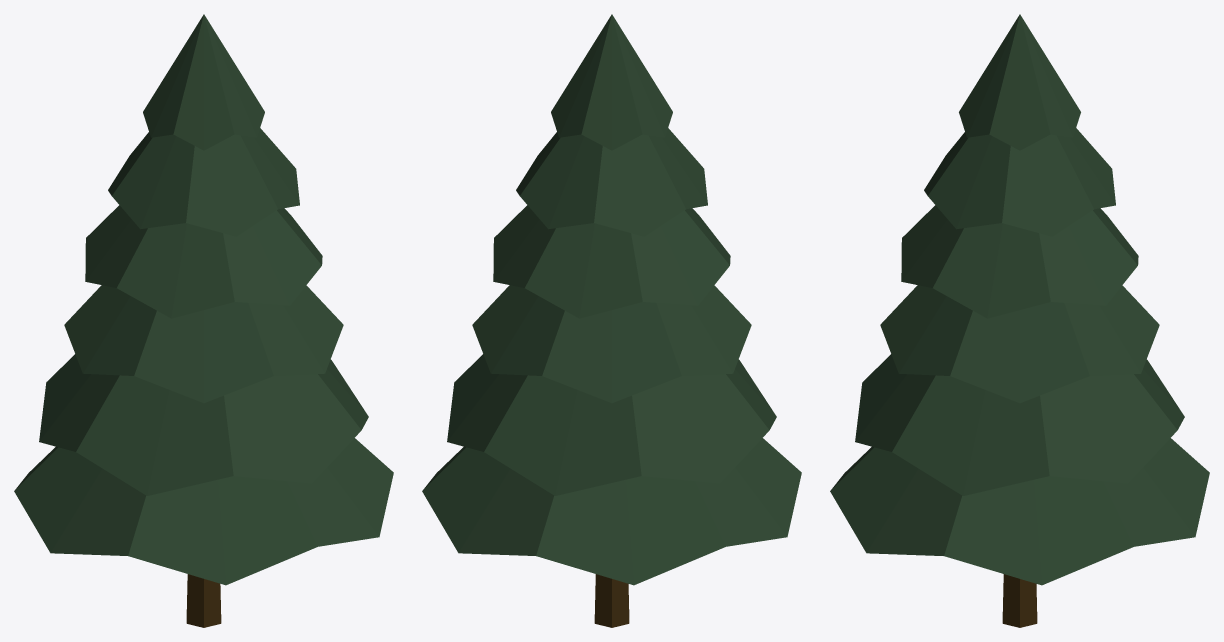
The model's file is Sapin.fbx.
The picture shows the model from 3 angles, left to right: view 1: azimuth 30°, elevation 25°; view 2: azimuth 150°, elevation 25°; view 3: azimuth 270°, elevation 25°; orthographic projection.
Parts seen in each view (by area): view 1: Sapin; view 2: Sapin; view 3: Sapin.
Boxes of the visible parts, left/top/right/bottom form: Sapin: left=14, top=14, right=393, bottom=627; Sapin: left=422, top=14, right=801, bottom=627; Sapin: left=830, top=14, right=1209, bottom=627.
Bounding box in the file's own units: 274 × 482 × 274.
